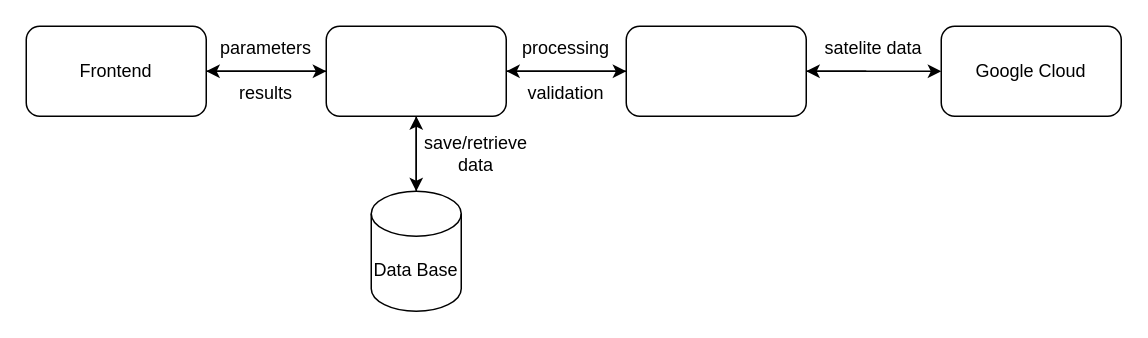
The diagram is 1148 pixels wide and 338 high, and some of its shapes have lost their labels. Here are the shapes that lost their labels. From the top down, the centre of each, then its label:
point 415,70: Orchestrator
point 715,70: Backend
